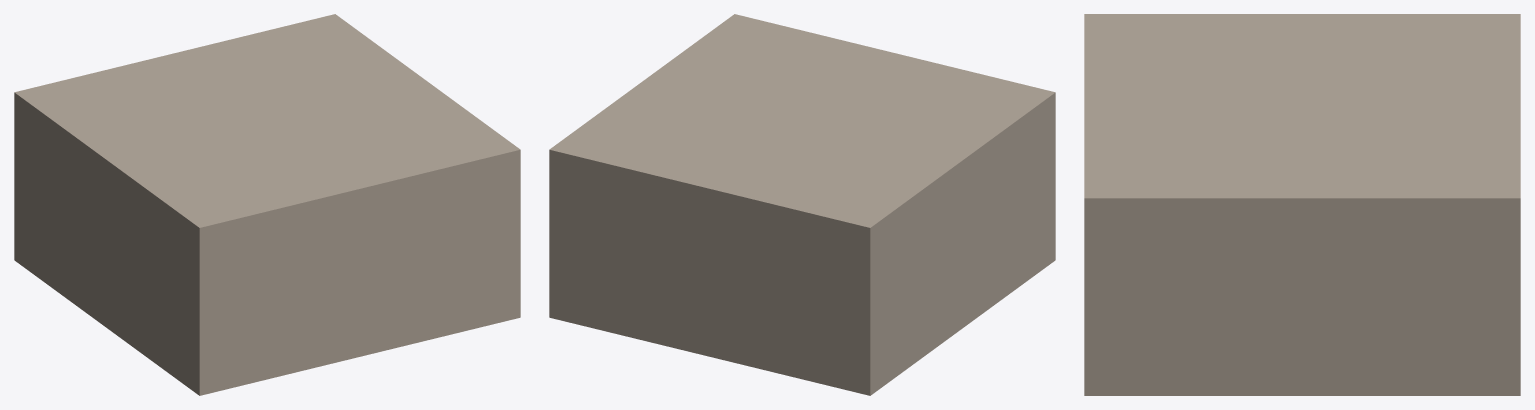
The model's file is trader_wall_block.glb.
3 views of the same model, side by side, from view 1: azimuth 30°, elevation 25°; view 2: azimuth 150°, elevation 25°; view 3: azimuth 270°, elevation 25° (orthographic). The views are drawn at different scales.
Parts seen in each view (by area): view 1: single_old_klim_wall_block_core_2m; view 2: single_old_klim_wall_block_core_2m; view 3: single_old_klim_wall_block_core_2m.
Boxes of the visible parts, <box> form: single_old_klim_wall_block_core_2m: <box>14,14,520,395</box>; single_old_klim_wall_block_core_2m: <box>549,14,1055,395</box>; single_old_klim_wall_block_core_2m: <box>1084,14,1520,395</box>.
Size of the model in its own units: 2 by 1 by 2.
